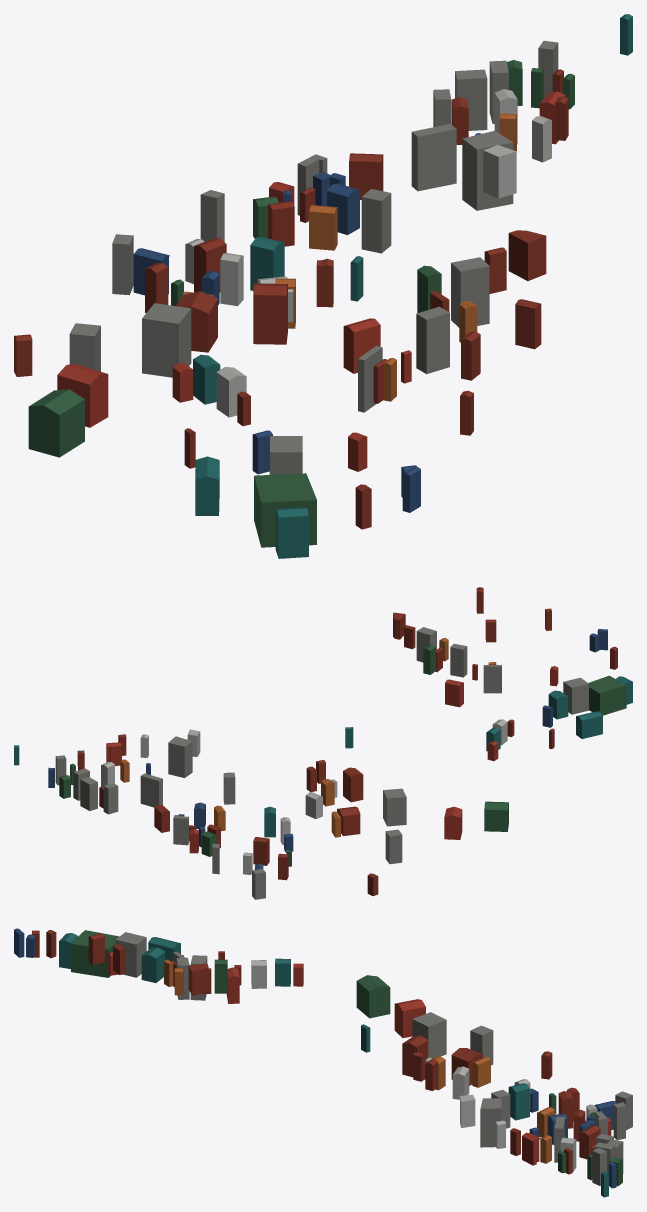
File: near-16-54723-29730.da542a4a.glb
The picture shows the model from 3 angles, top to bottom: view 1: azimuth 30°, elevation 25°; view 2: azimuth 150°, elevation 25°; view 3: azimuth 270°, elevation 25°; orthographic projection. The views are drawn at different scales.
Size of the model in its own units: 375 by 134 by 402.
